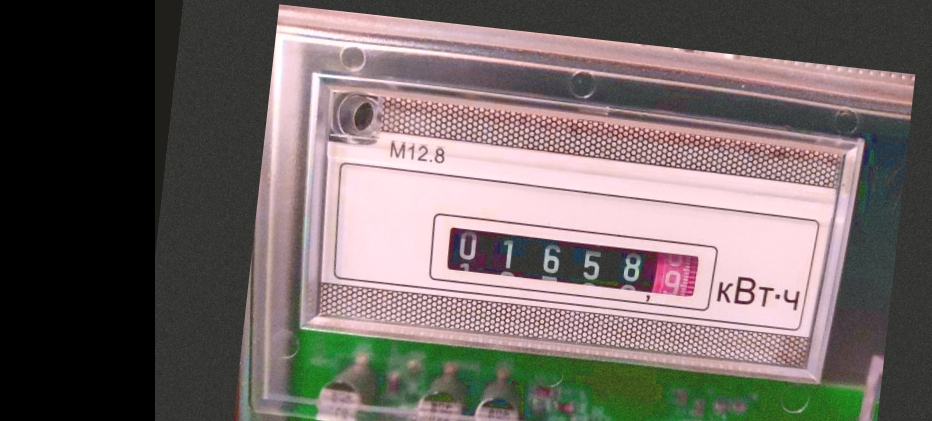0: (457, 228, 480, 260)
1: (499, 236, 519, 269)
5: (580, 247, 604, 280)
6: (541, 239, 564, 274)
8: (621, 248, 645, 282)
9: (660, 266, 684, 297)
screen: (417, 202, 725, 318)
